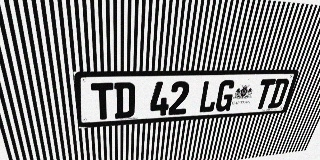2: (168, 81, 190, 115)
4: (150, 81, 171, 116)
D: (114, 82, 135, 119), (267, 78, 290, 108)
G: (214, 80, 237, 112)
L: (198, 80, 220, 113)
T: (91, 83, 114, 120), (253, 79, 276, 109)
